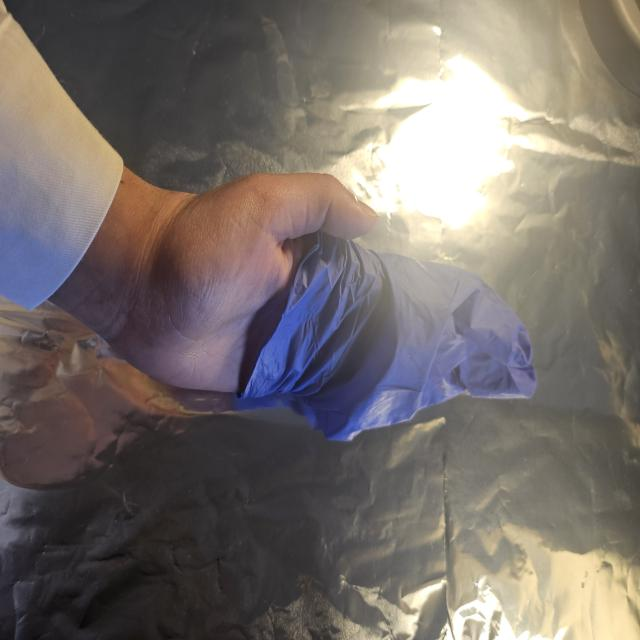glove_partial: (134, 171, 538, 438)
